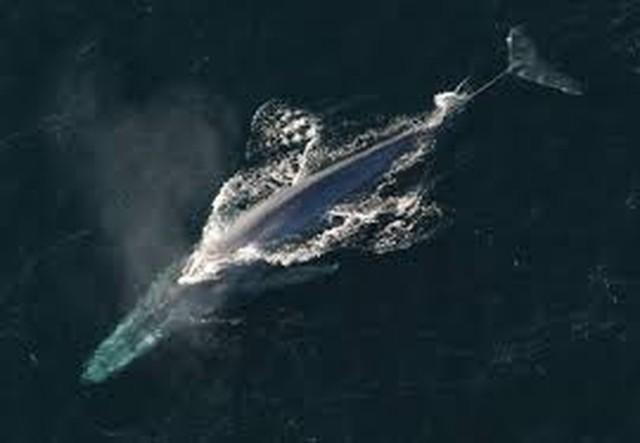whale: (69, 18, 595, 396)
